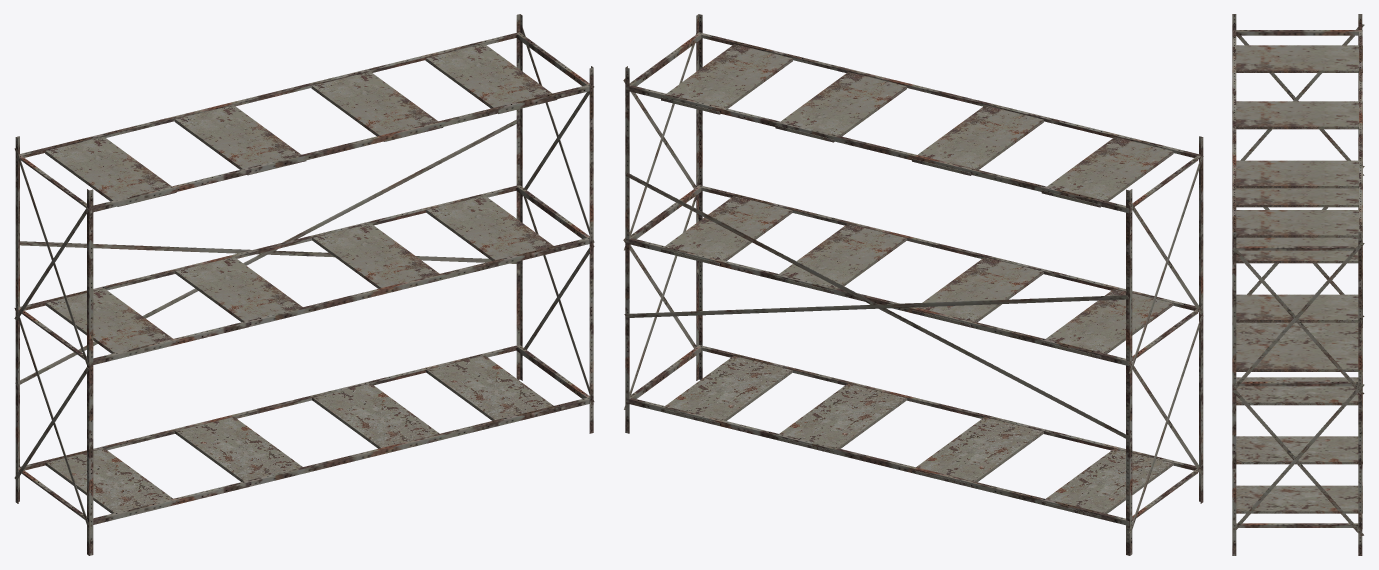
The model's file is 204_IronShelf.fbx.
3 renders of one model, left to right at view 1: azimuth 30°, elevation 25°; view 2: azimuth 150°, elevation 25°; view 3: azimuth 270°, elevation 25°, orthographic. The views are drawn at different scales.
Parts seen in each view (by area): view 1: LOD_1_Group_0_Sub_1__sm30_046_IronShelf02A_Mat; view 2: LOD_1_Group_0_Sub_1__sm30_046_IronShelf02A_Mat; view 3: LOD_1_Group_0_Sub_1__sm30_046_IronShelf02A_Mat.
Boxes of the visible parts, <box> form: LOD_1_Group_0_Sub_1__sm30_046_IronShelf02A_Mat: <box>14,14,594,555</box>; LOD_1_Group_0_Sub_1__sm30_046_IronShelf02A_Mat: <box>623,14,1203,555</box>; LOD_1_Group_0_Sub_1__sm30_046_IronShelf02A_Mat: <box>1232,14,1364,555</box>.
Size of the model in its own units: 3.73 by 2.57 by 0.9549.
